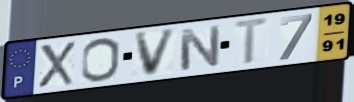7: (278, 13, 315, 62)
N: (177, 24, 222, 73)
O: (79, 36, 121, 83)
T: (231, 15, 273, 67)
V: (133, 26, 180, 79)
X: (36, 40, 77, 90)
